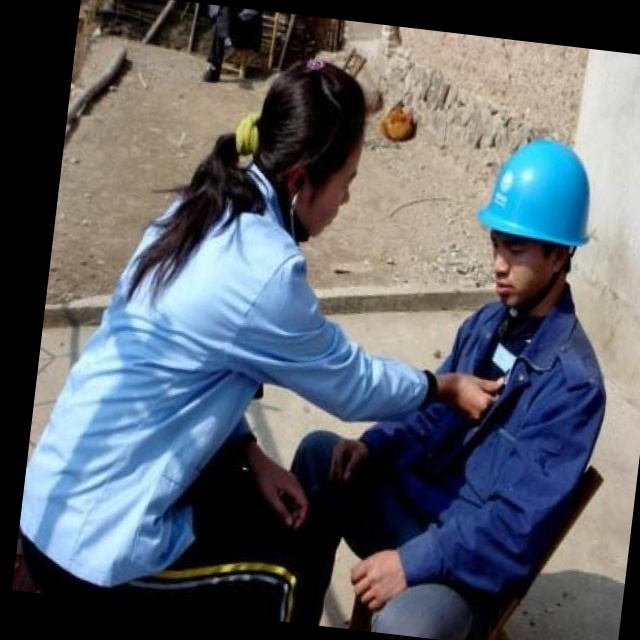Con_Casco: (468, 134, 603, 312)
Sin_Casco_Mascarrilla: (250, 53, 375, 238)
